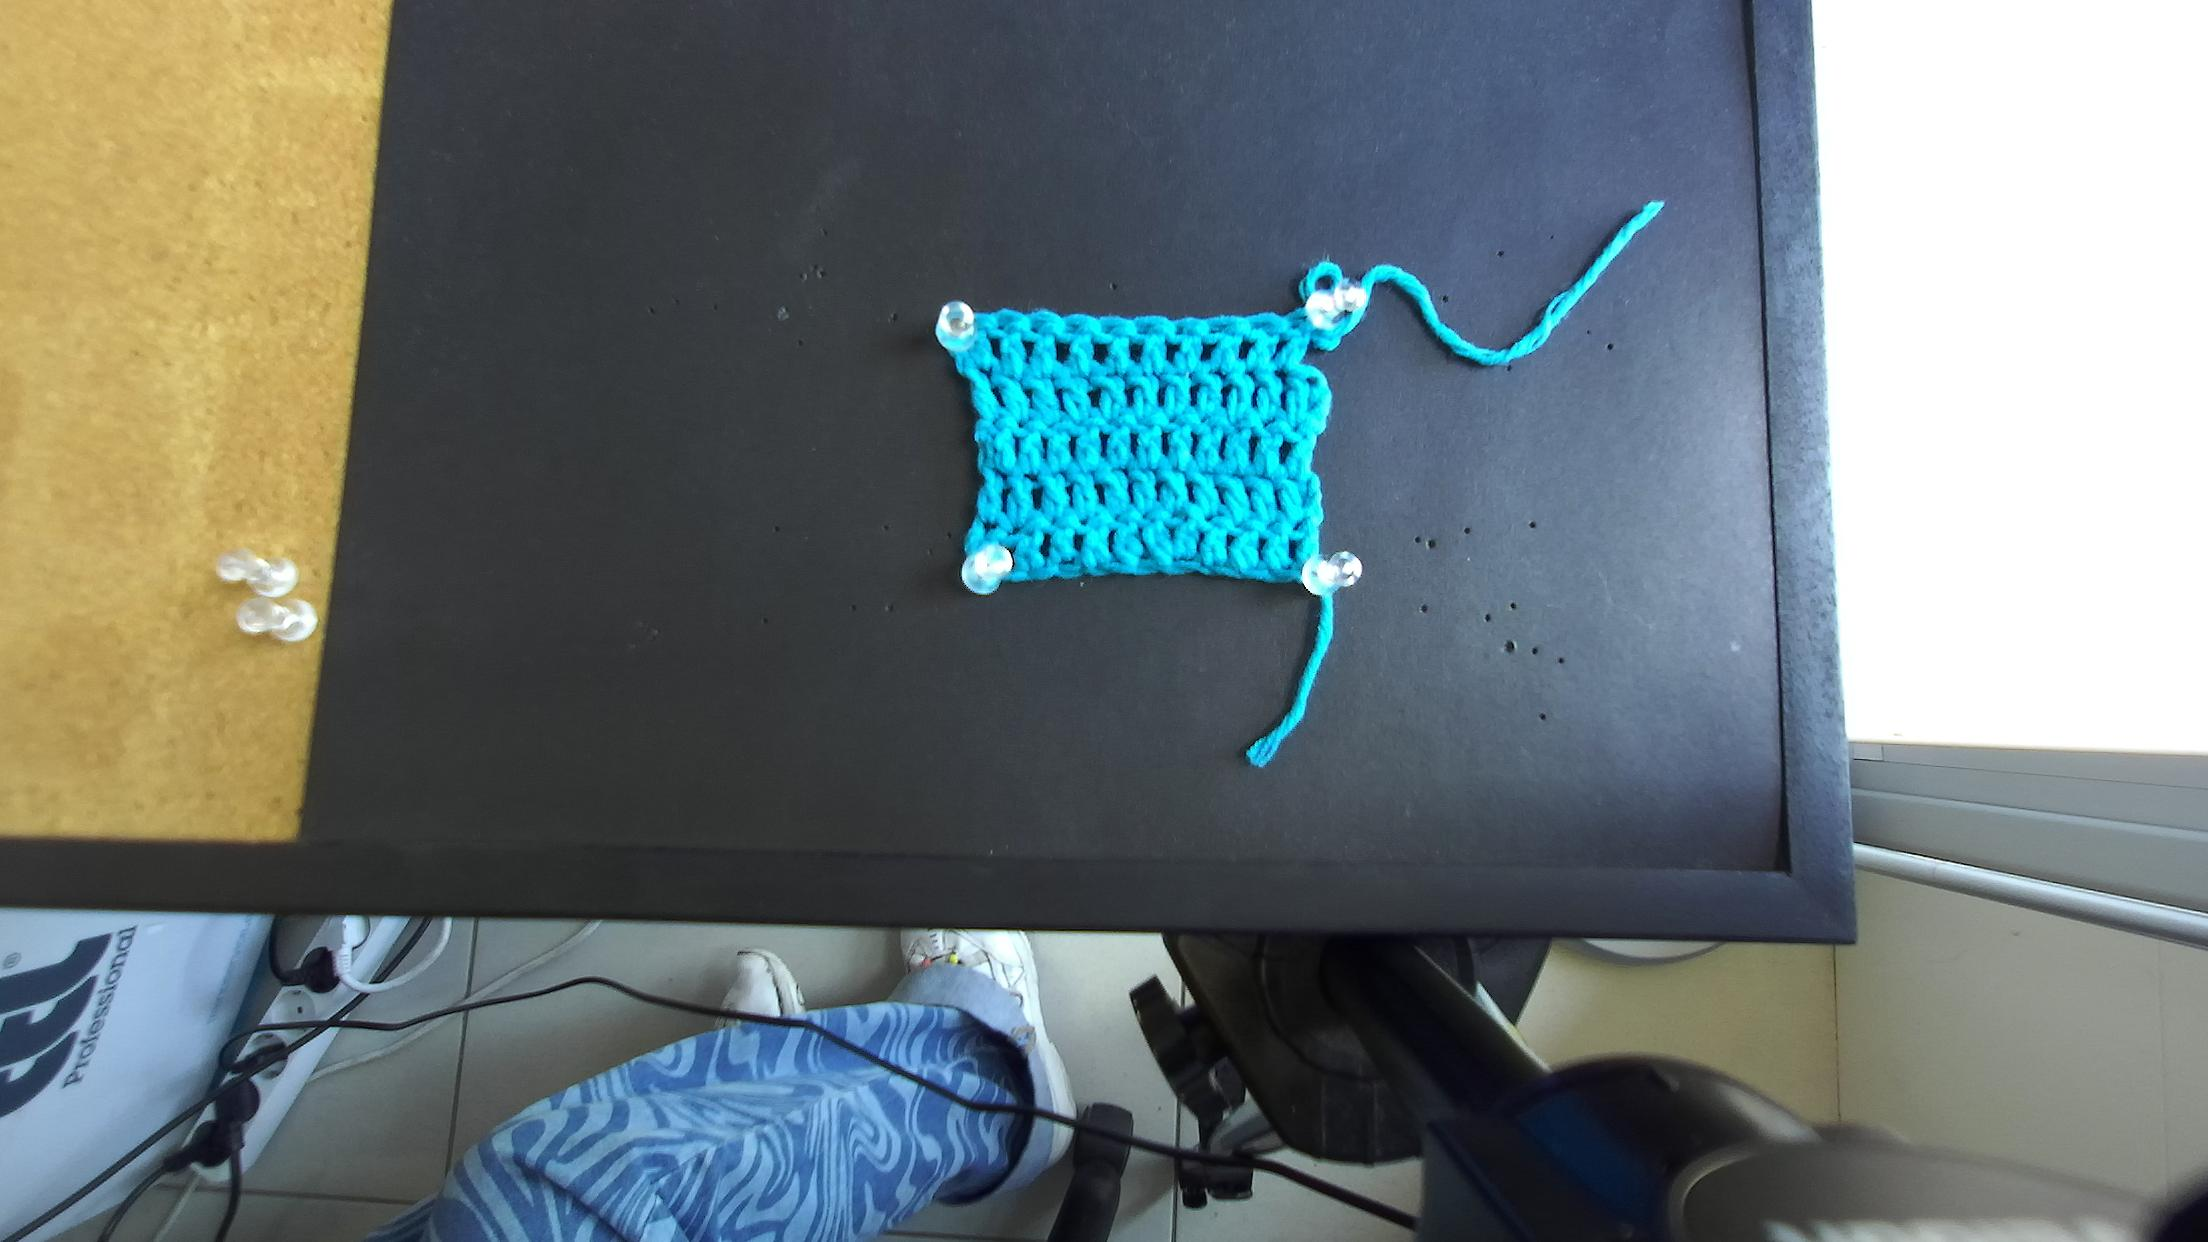hole: (1250, 321, 1275, 337), (998, 317, 1016, 334), (1030, 321, 1045, 335), (1136, 326, 1154, 337), (1209, 325, 1227, 334), (1063, 323, 1078, 334), (1101, 325, 1115, 335), (1174, 326, 1186, 335), (1291, 321, 1300, 329)
swatch: (936, 309, 1345, 601)
